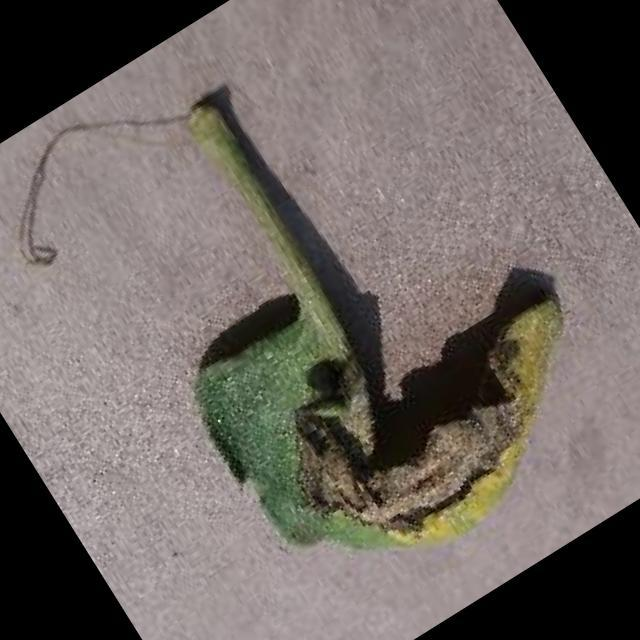Tomato late blight leaf: (159, 174, 639, 629)
